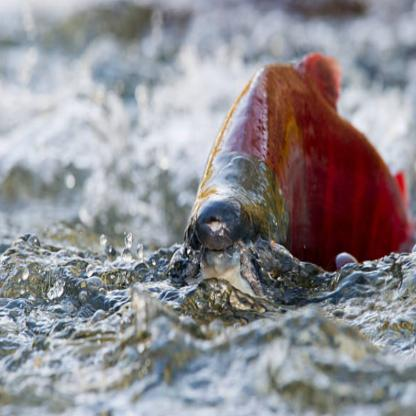sockeye: (190, 41, 410, 305)
